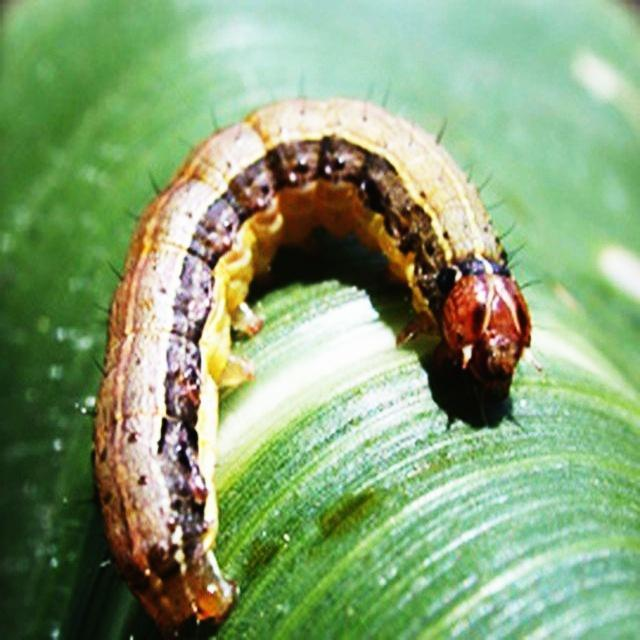gusano_cogollero: (85, 84, 538, 640)
